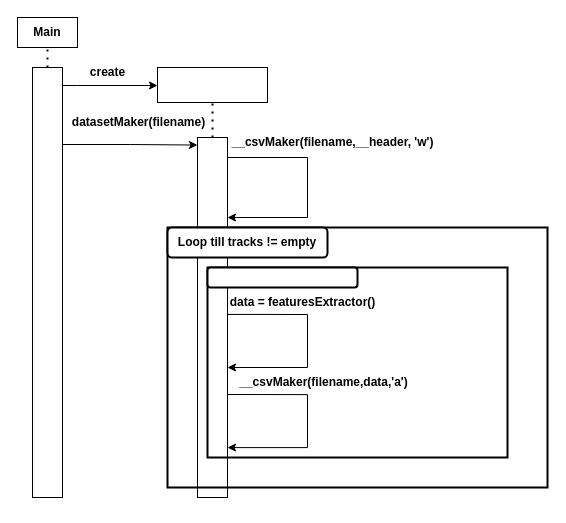
This 566x523 diagram has some shape labels left out. Each missing label, with the centre of its shape:
extractor:Extractor: pixel 212 84
Loop till window != empty: pixel 282 277
